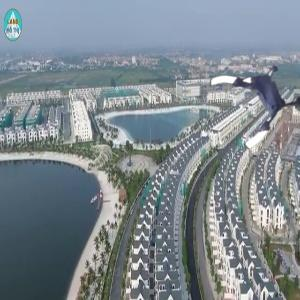drone: (213, 53, 300, 141)
